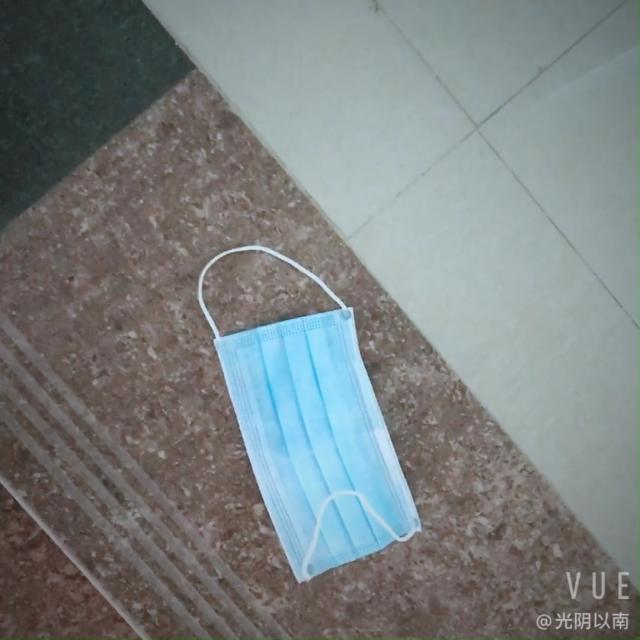face mask: (205, 282, 412, 580)
